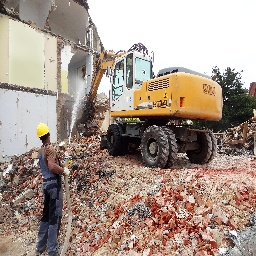helmet: (36, 121, 51, 143)
no-vest: (38, 143, 59, 185)
person: (33, 122, 67, 256)
